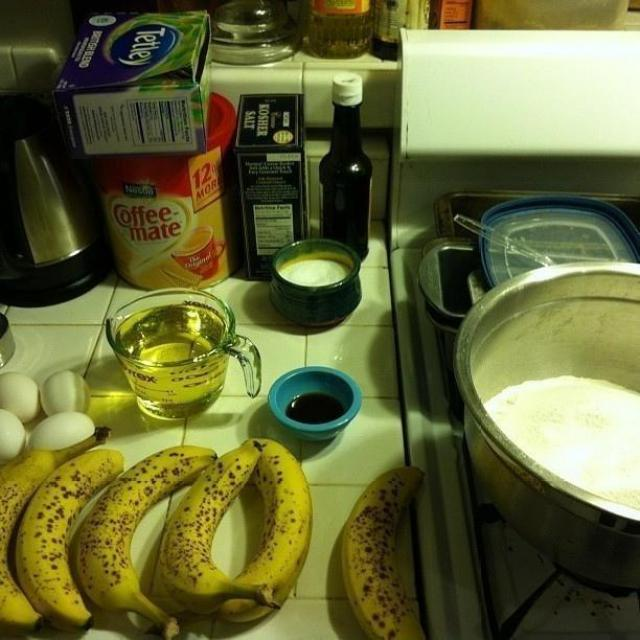bottle-glass: (318, 75, 374, 262)
